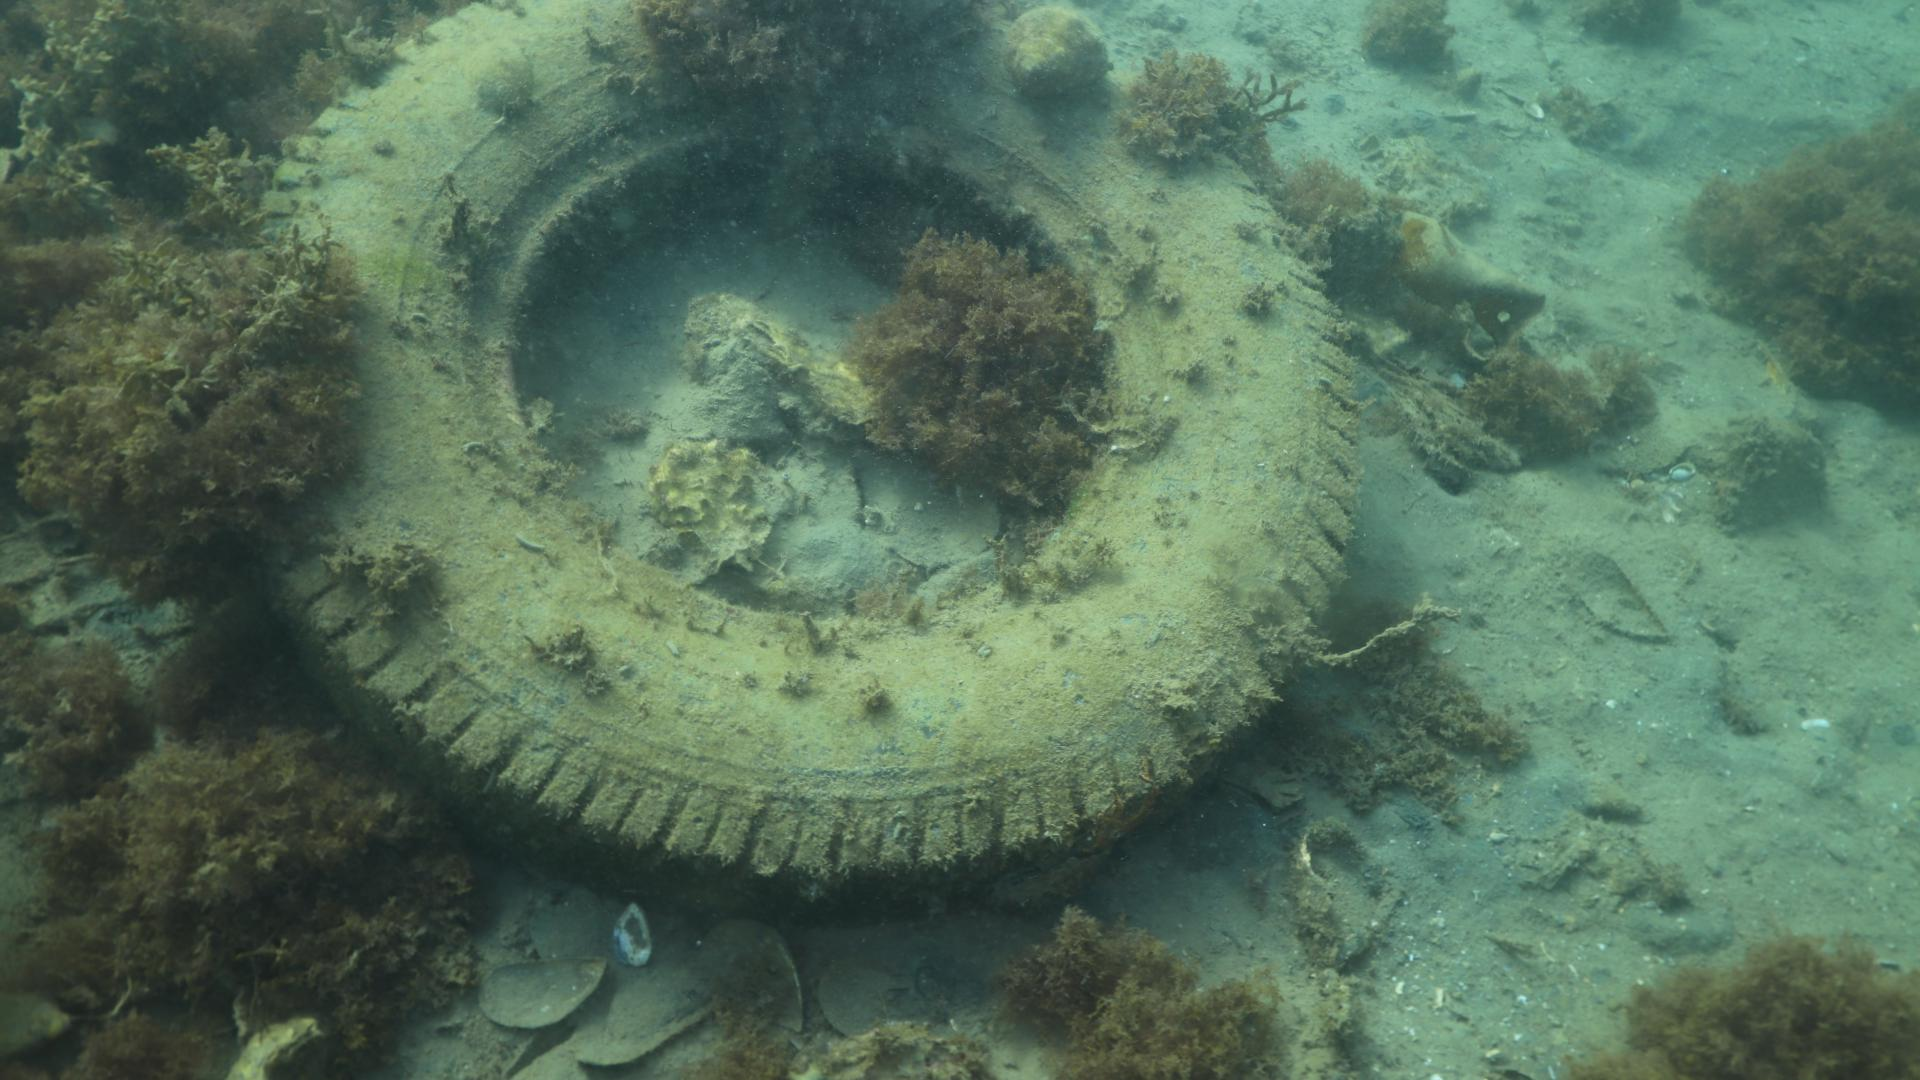tire: (251, 0, 1358, 928)
